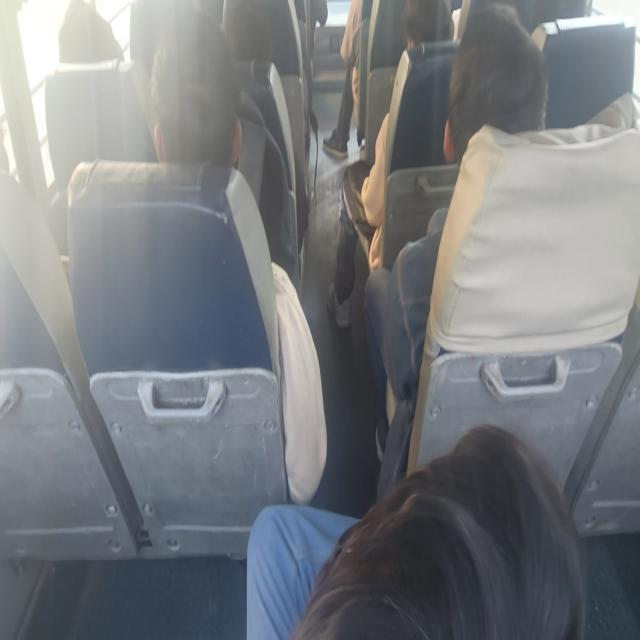person: (363, 2, 548, 491), (149, 10, 328, 504), (245, 423, 586, 638), (326, 0, 454, 328), (326, 111, 390, 329), (322, 0, 364, 159), (58, 0, 124, 64)
